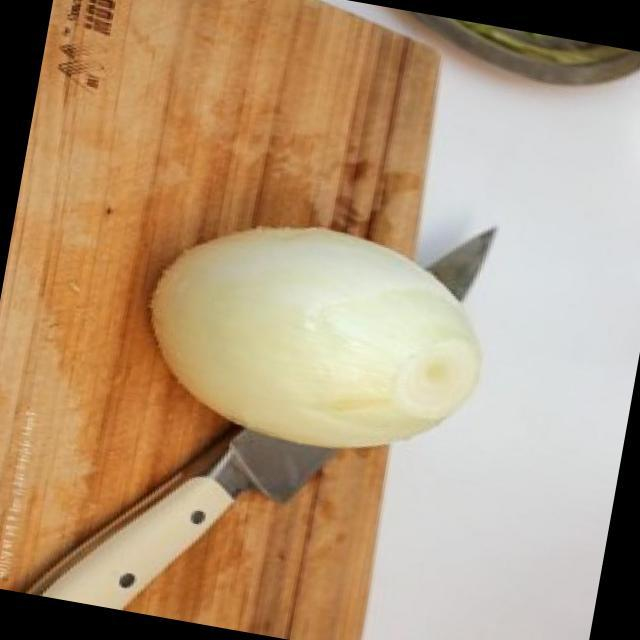Onion: (152, 222, 482, 448)
